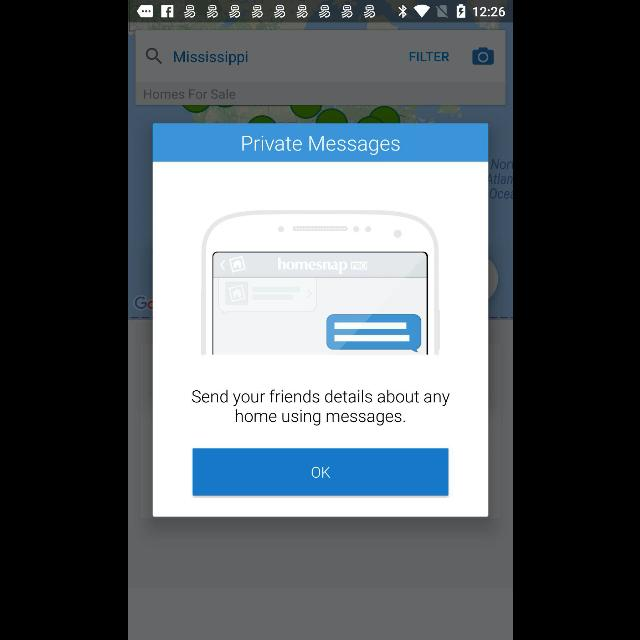icon: (471, 47, 493, 65), (144, 48, 162, 64)
image: (200, 211, 440, 355)
panel: (152, 124, 488, 516)
text: (192, 390, 448, 426), (241, 136, 399, 156), (173, 52, 247, 66), (143, 89, 234, 99), (409, 52, 449, 62)
textbutton: (192, 448, 448, 496)
uppertaskbar: (128, 1, 512, 23)
